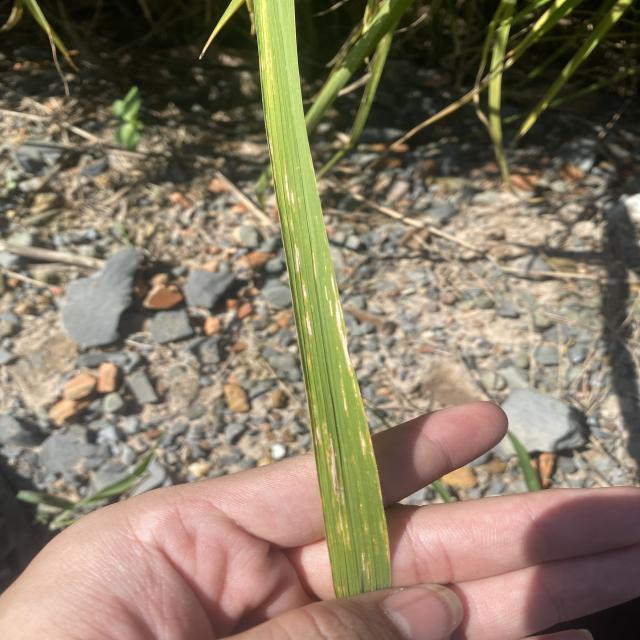Dom soc vi khuan: (331, 275, 352, 376), (341, 378, 349, 417), (284, 161, 290, 202), (306, 311, 312, 338), (295, 242, 300, 273), (312, 252, 316, 279), (302, 282, 306, 303), (330, 301, 333, 317)
